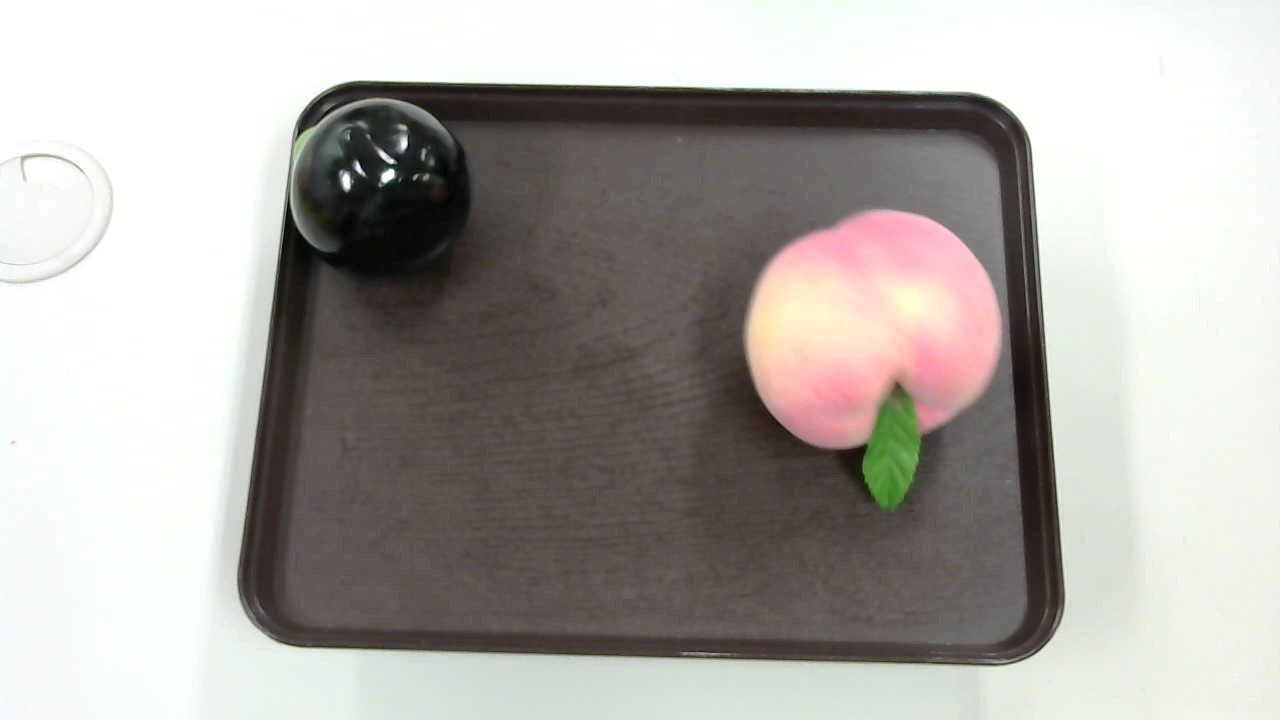mangosteen: (286, 98, 468, 270)
peach: (744, 209, 1007, 516)
